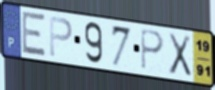7: (108, 24, 134, 68)
9: (84, 22, 104, 65)
E: (21, 10, 47, 59)
P: (139, 27, 166, 72), (48, 14, 74, 59)
X: (167, 32, 193, 79)
